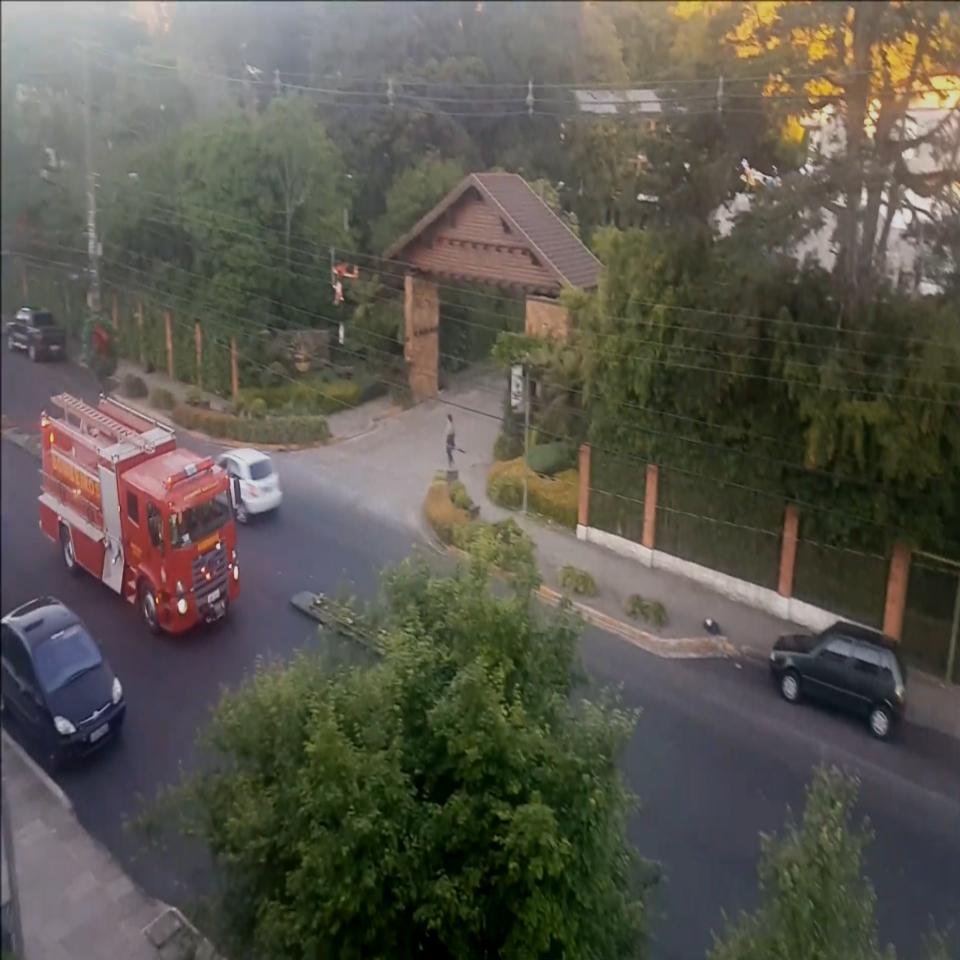bombeiro: (36, 385, 246, 639)
